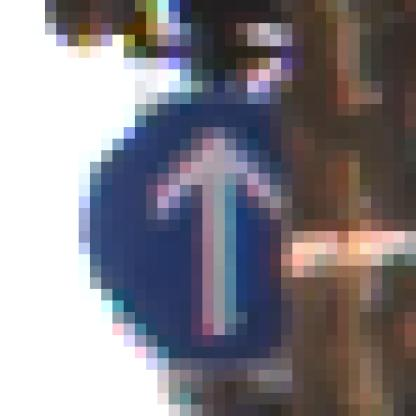AheadOnly: (57, 59, 350, 359)
